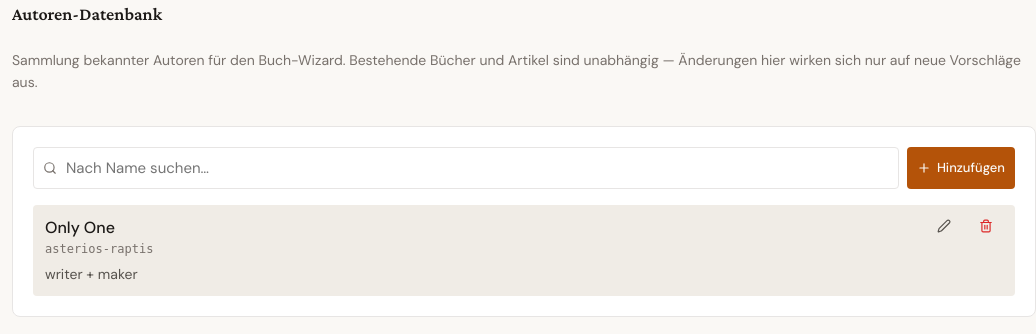
Test: AuthorsDatabase › shows the with-search empty state when filter has no matches
This screenshot has width=1036, height=334.
Check: the element with test id "authors-database-row-a1" is shown, box [33,205,1015,296]
In the field with test id "authors-database-search": x=466, y=168 [33,147,899,189], type "xyz-no-match"
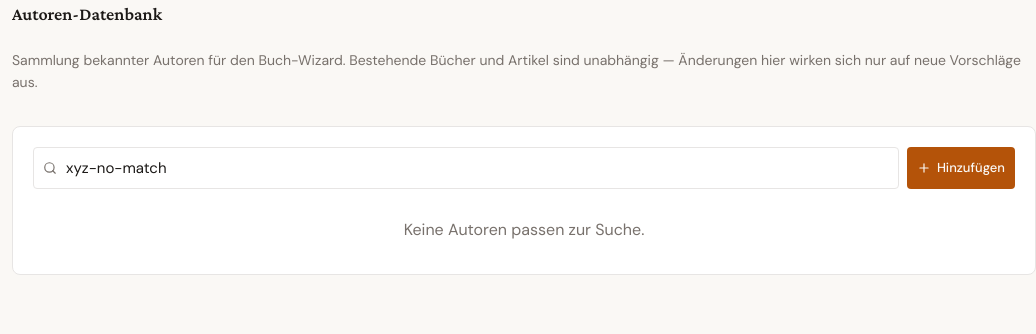
Check: the text "Keine Autoren passen zur Suche." is shown, box [404,219,644,240]
